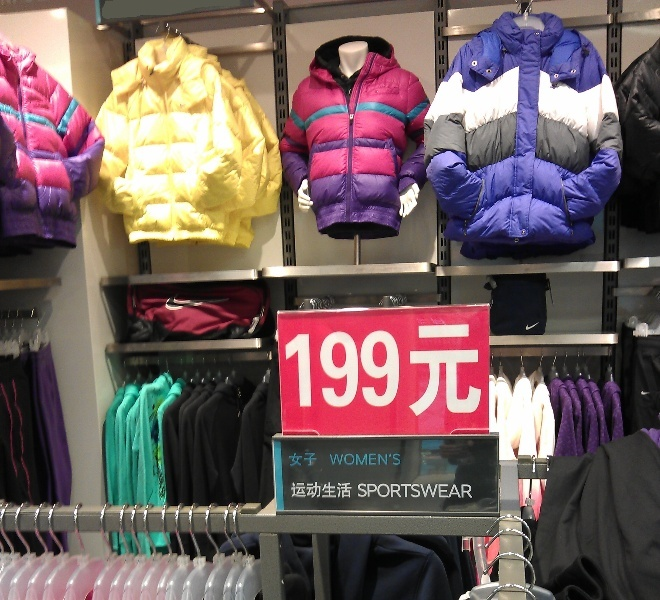text: (289, 323, 304, 420), (305, 323, 320, 420), (321, 323, 336, 420), (337, 323, 352, 420), (353, 323, 368, 420), (369, 323, 384, 420), (385, 323, 400, 420), (401, 323, 416, 420), (417, 323, 432, 420), (433, 323, 448, 420), (449, 323, 464, 420), (465, 323, 480, 420), (284, 323, 288, 420), (305, 482, 320, 499), (321, 482, 336, 499), (337, 482, 352, 499), (385, 453, 401, 467), (369, 484, 384, 498), (385, 484, 400, 498), (401, 484, 416, 498), (417, 484, 432, 498), (433, 484, 448, 498), (449, 484, 464, 498), (337, 453, 352, 467), (353, 453, 368, 467), (369, 453, 384, 467), (292, 482, 304, 499), (481, 323, 483, 420), (290, 453, 304, 466), (305, 453, 316, 466), (358, 484, 368, 498), (465, 484, 473, 498), (330, 453, 336, 467)
